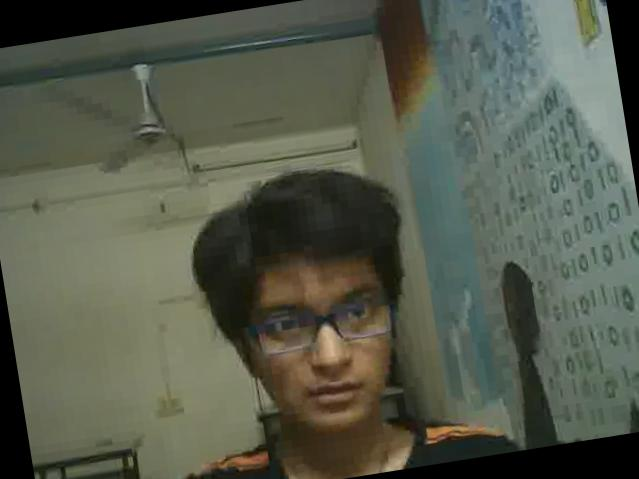bingung: (239, 234, 416, 450)
